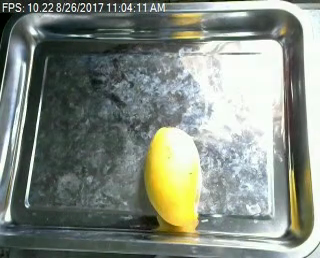Mango: (136, 120, 209, 232)
